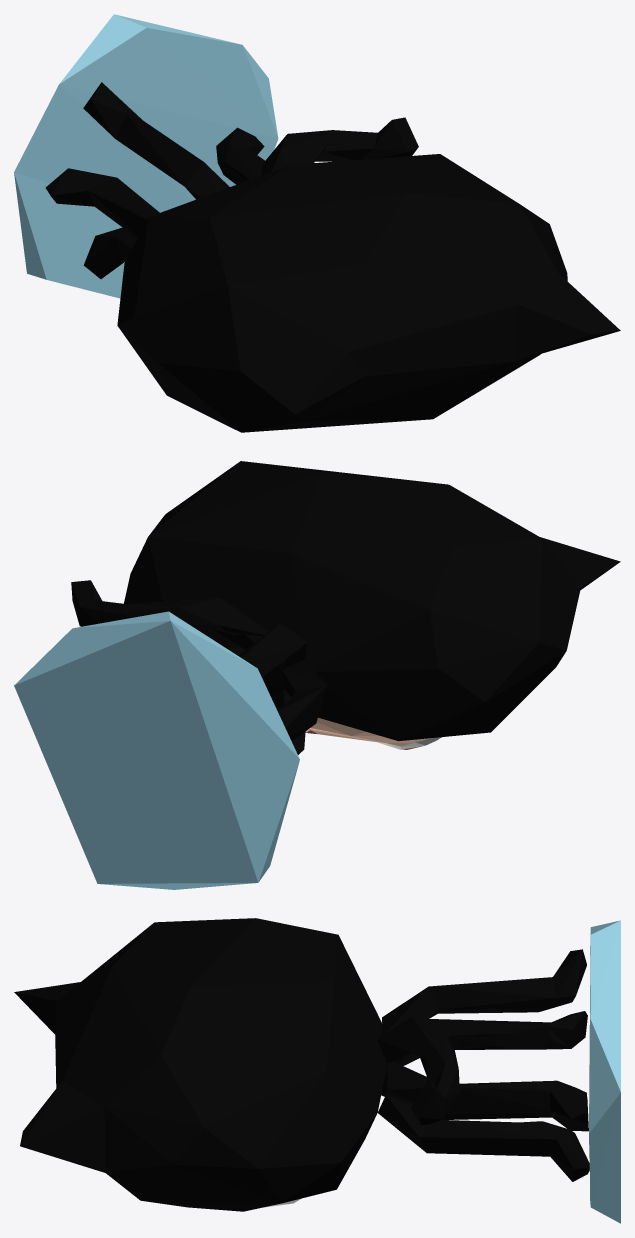
The model's file is github.glb.
3 views of the same model, one above another, from view 1: azimuth 30°, elevation 25°; view 2: azimuth 150°, elevation 25°; view 3: azimuth 270°, elevation 25° (orthographic). The views are drawn at different scales.
Parts seen in each view (by area): view 1: face; view 2: face; view 3: face.
Part boxes in pixels (bbox=[...]): face: bbox=[14, 14, 620, 432]; face: bbox=[14, 461, 620, 889]; face: bbox=[14, 918, 620, 1223].
Size of the model in its own units: 3.12 by 2.09 by 4.22.
